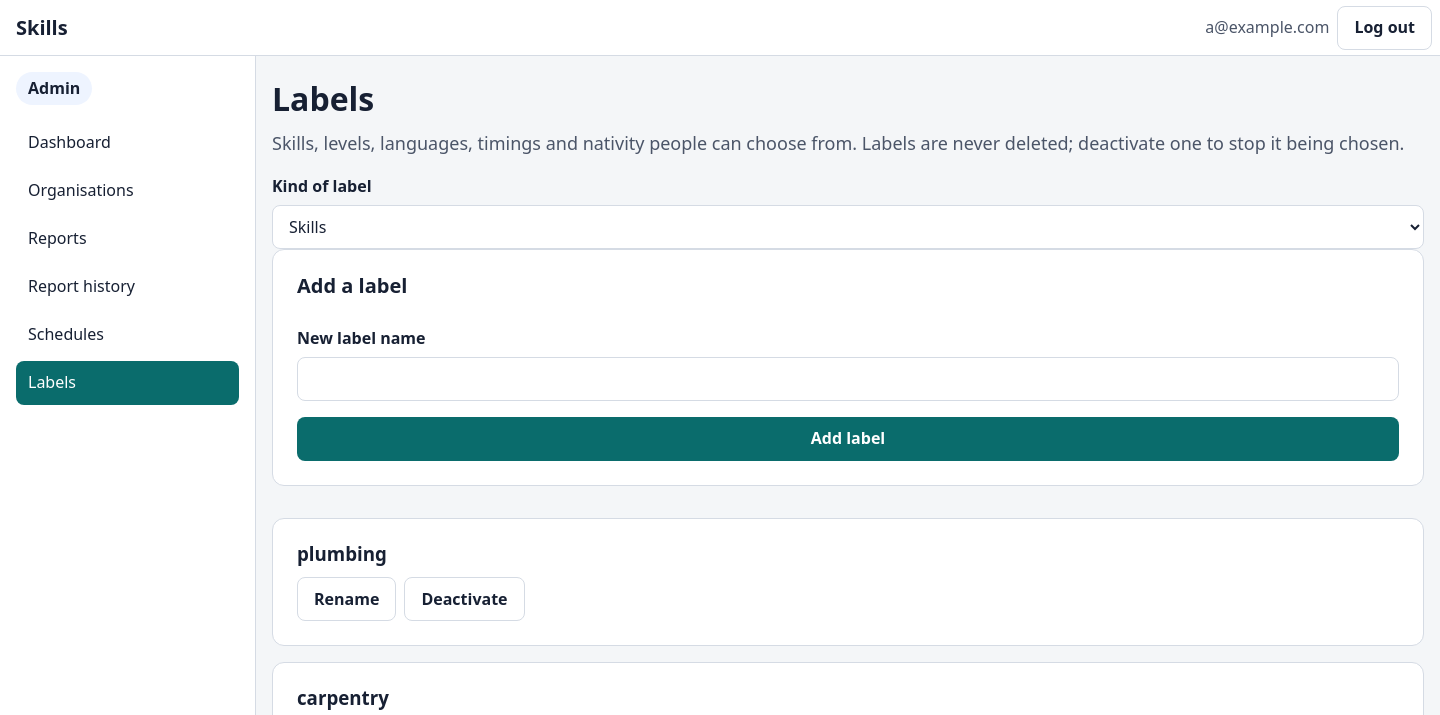
Test case: label management › does not add an empty name, and explains a duplicate
Click the button "Add label".
click(848, 439)  # box [297, 417, 1399, 461]
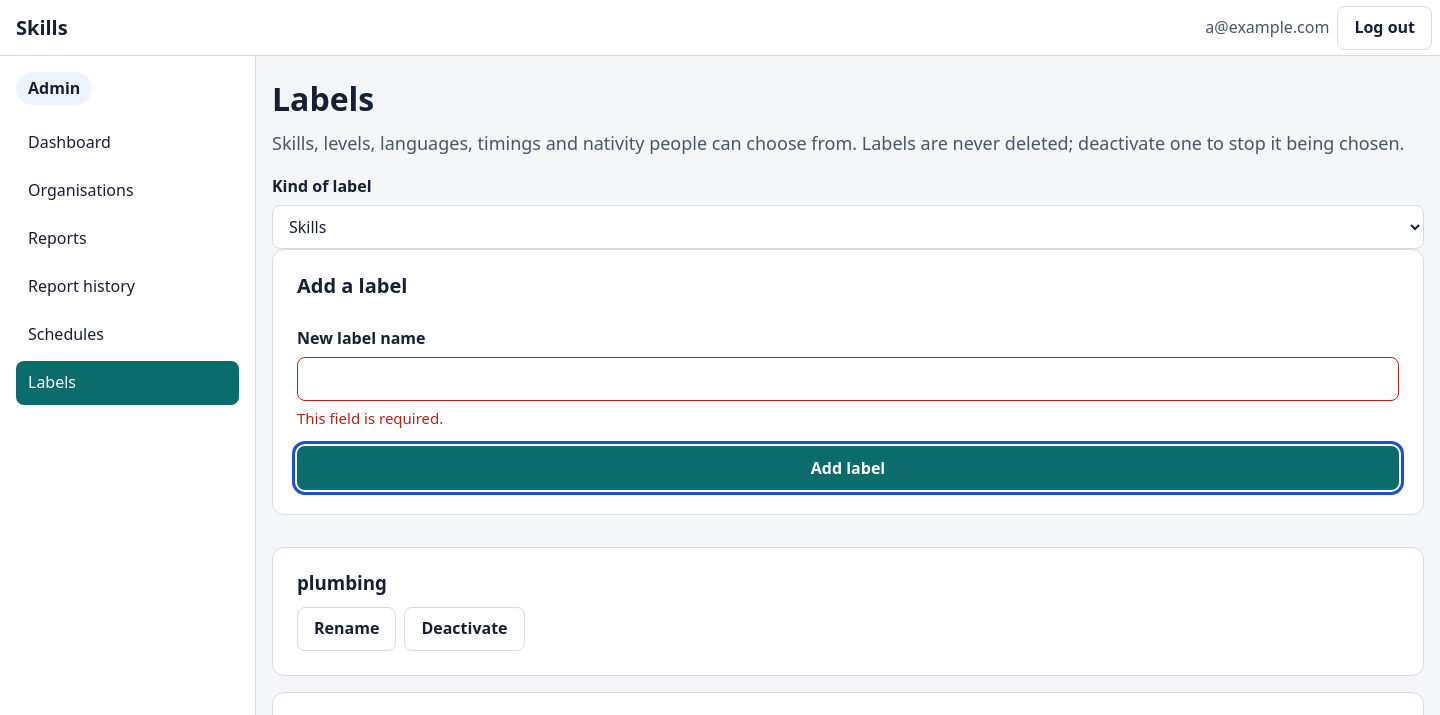
Check: the text "This field is required." is shown, box [297, 408, 443, 428]
Type "plumbing" into the field labelled "New label name".
click(848, 379); type("plumbing")  # box [297, 357, 1399, 401]
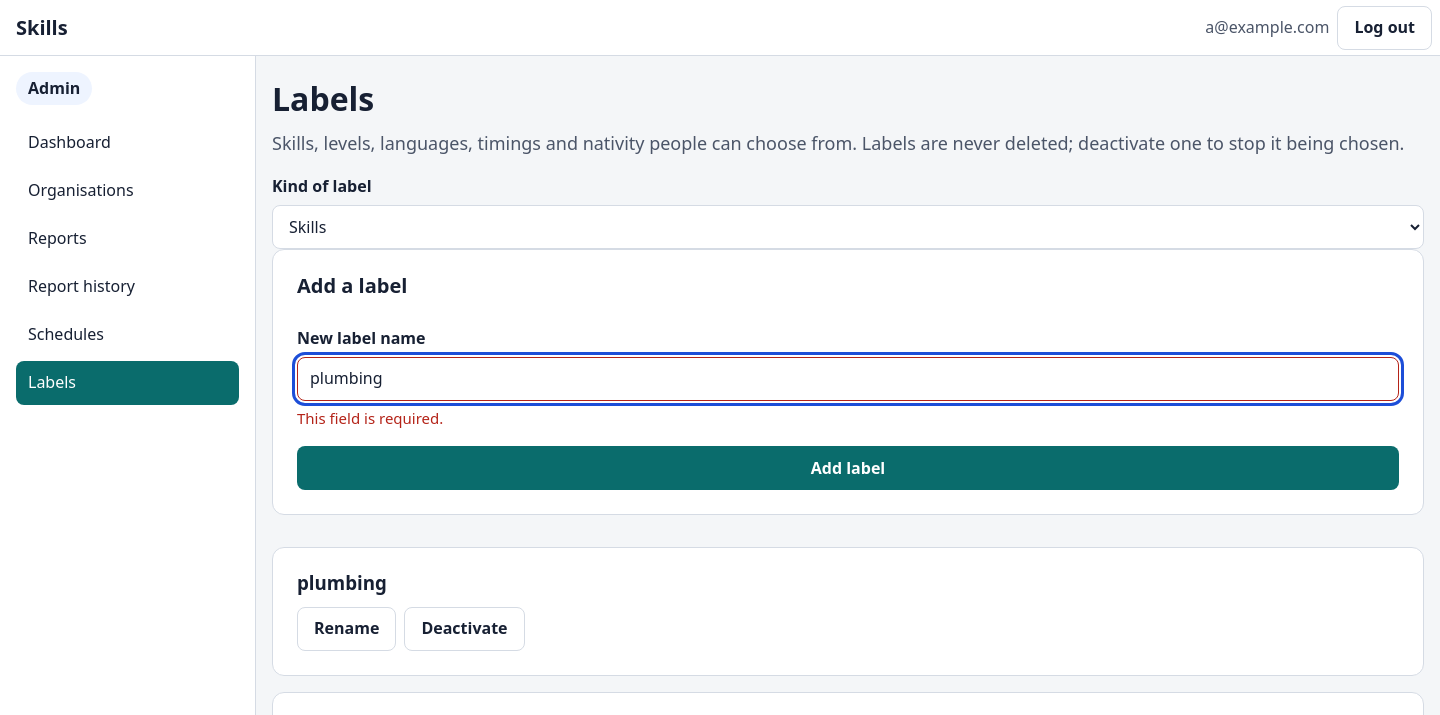
Click the button "Add label".
click(848, 468)  # box [297, 446, 1399, 490]
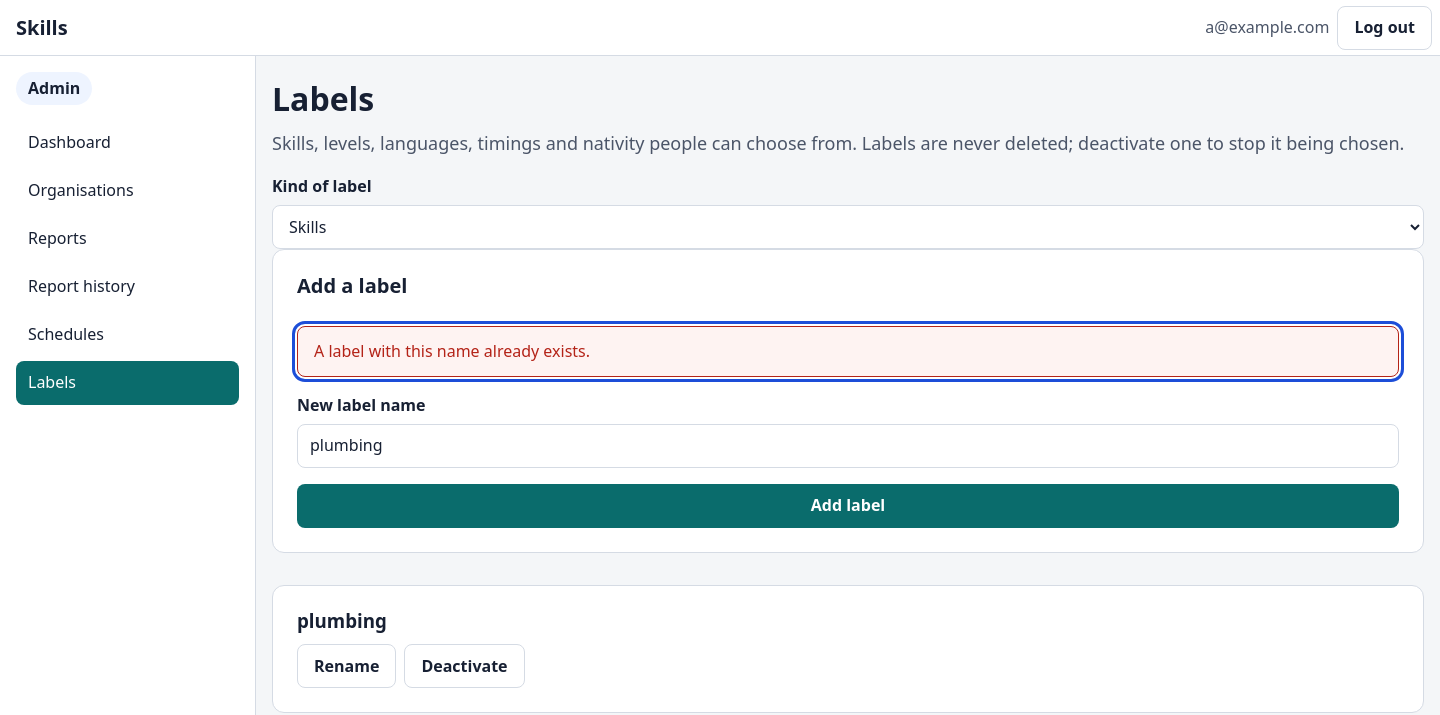
Check: the message shows "already exists", box [314, 340, 590, 362]
